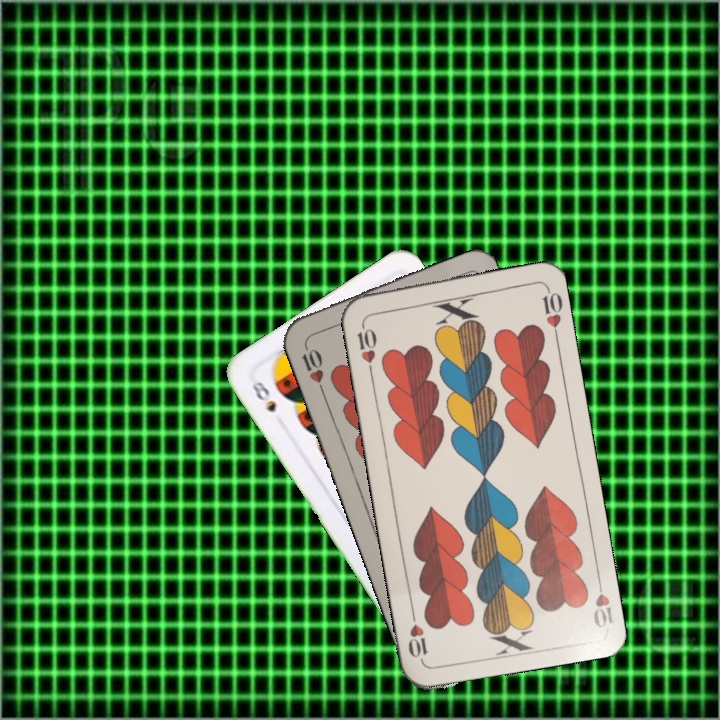H10: (297, 338, 327, 395), (589, 572, 616, 631), (353, 318, 379, 377)
S8: (245, 375, 279, 415)
